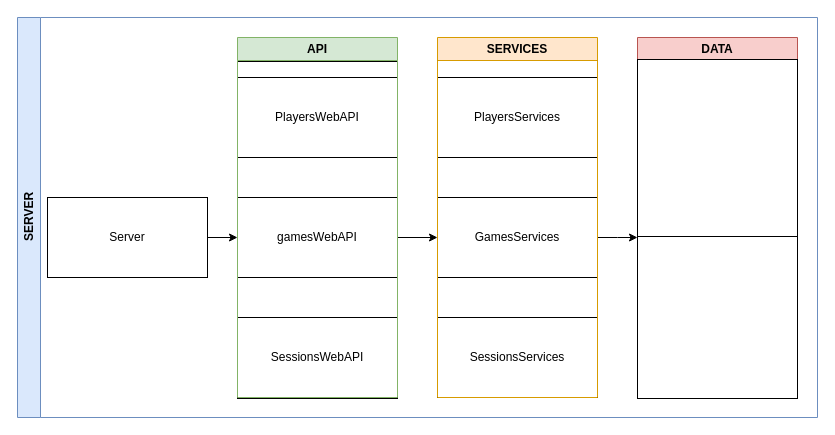
The diagram is 835 pixels wide and 435 high, and some of its shapes have lost their labels. The shapes that lost their labels are listed below. From the top down, each one's centre as x and y in pixels, then its label:
point (717, 147): Memory
point (717, 317): Postgres
